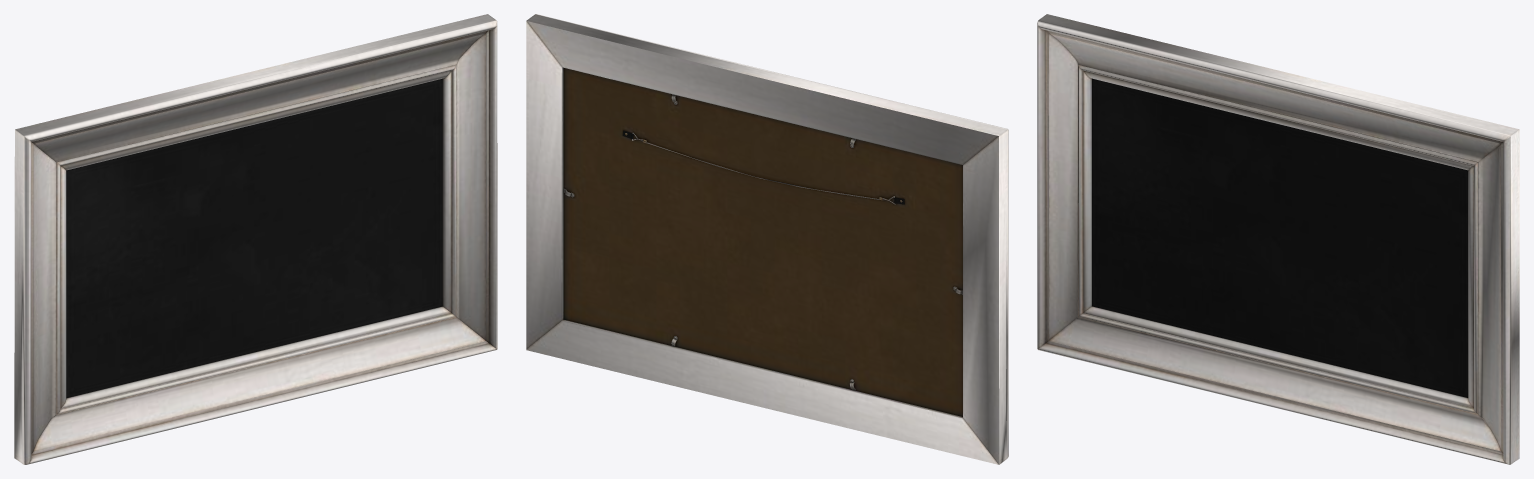
File: hanging_picture_frame_02.glb
The picture shows the model from 3 angles, left to right: view 1: azimuth 30°, elevation 25°; view 2: azimuth 150°, elevation 25°; view 3: azimuth 330°, elevation 25°; orthographic projection.
Parts seen in each view (by area): view 1: hanging_picture_frame_02; view 2: hanging_picture_frame_02; view 3: hanging_picture_frame_02.
Part boxes in pixels (bbox=[...]): hanging_picture_frame_02: bbox=[14, 14, 497, 464]; hanging_picture_frame_02: bbox=[526, 14, 1008, 464]; hanging_picture_frame_02: bbox=[1037, 14, 1519, 464].
Bounding box in the file's own units: 0.7514 × 0.4995 × 0.0326.
Materials: 3 (3 with a texture image).
